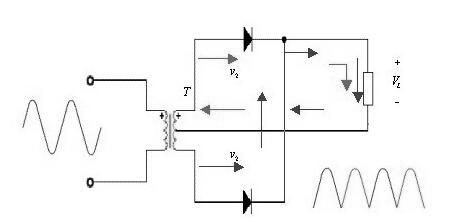diode: (361, 69, 375, 109), (240, 188, 255, 217), (242, 25, 256, 54)
trans: (158, 106, 180, 158)
